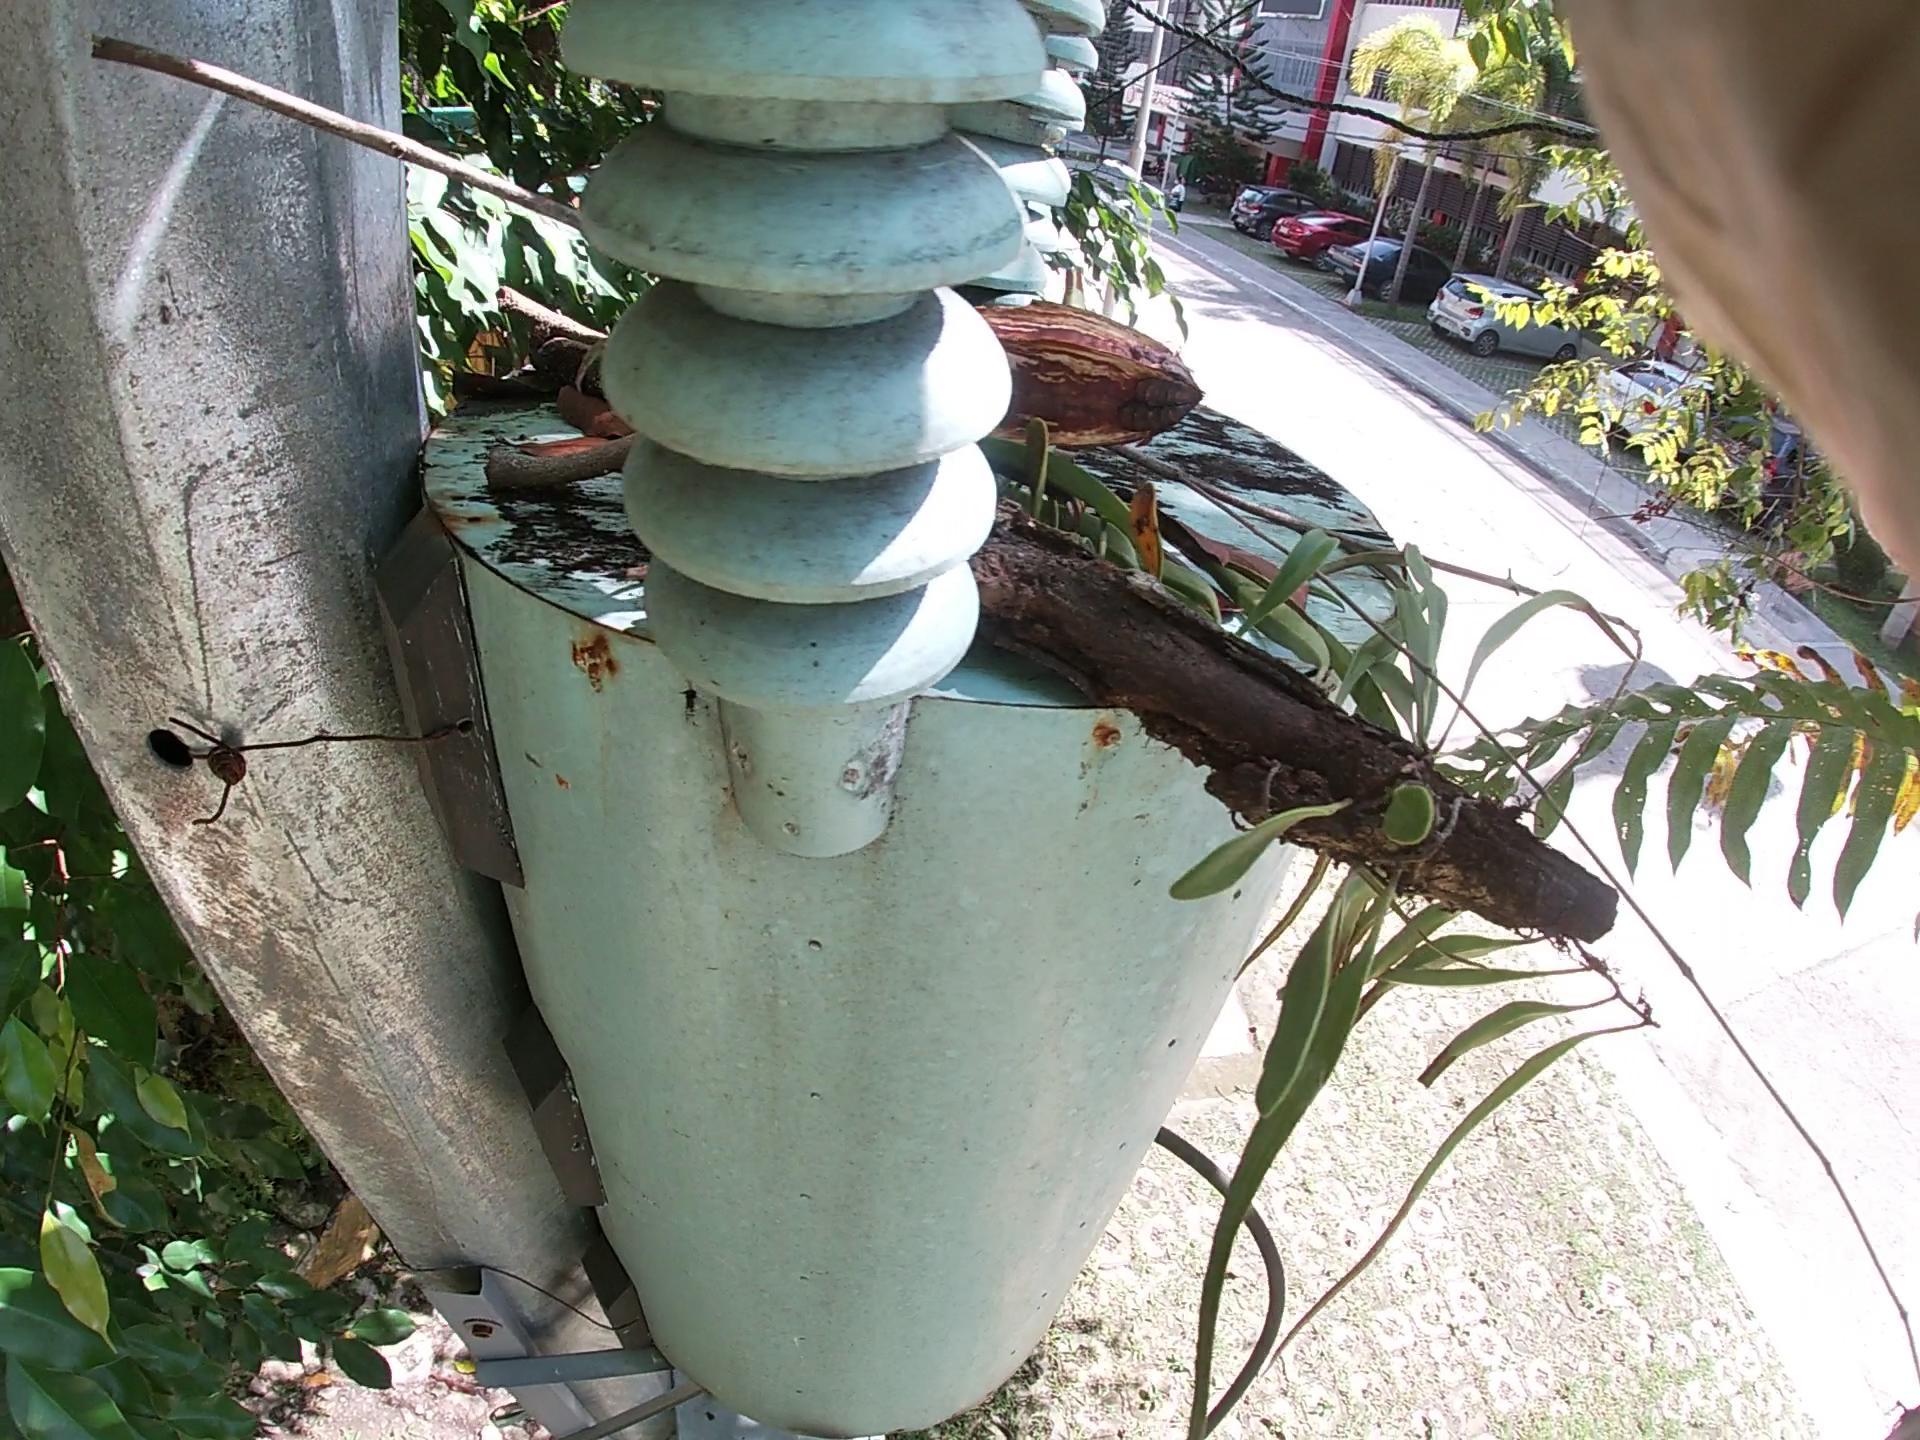branch with leaves: (711, 470, 1643, 935)
leaf: (1081, 484, 1361, 632)
mahogany fruit: (828, 284, 1225, 470)
tree branch: (101, 35, 1516, 663), (475, 237, 1010, 399), (405, 395, 765, 504)
